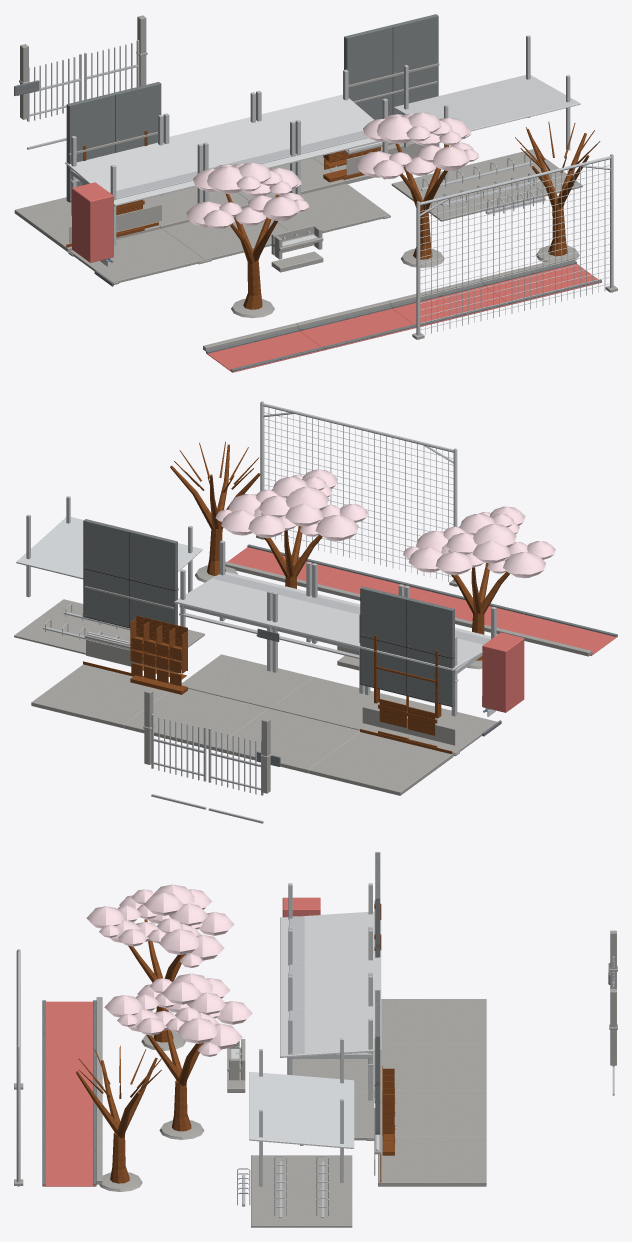
File: japanese-school-grounds-light.glb
The picture shows the model from 3 angles, top to bottom: view 1: azimuth 30°, elevation 25°; view 2: azimuth 150°, elevation 25°; view 3: azimuth 270°, elevation 25°; orthographic projection. The views are drawn at different scales.
Visible parts, largest first — view 1: 080-backstop-net-frame0, 039-classroom-wall-window0, 038-classroom-wall-sliding-door0, 073-cherry-tree-blossom1, 074-cherry-tree-blossom1, 066-bicycle-shelter2, 066-bicycle-shelter1, 062-covered-walkway-section2, 064-covered-walkway-section2, 063-covered-walkway-section2, 062-covered-walkway-section1, 065-vending-machine0 (+32 smaller); view 2: 038-classroom-wall-sliding-door0, 039-classroom-wall-window0, 080-backstop-net-frame0, 074-cherry-tree-blossom1, 073-cherry-tree-blossom1, 023-floor-slab-3m0, 029-floor-slab-3m0, 027-floor-slab-3m0, 025-floor-slab-3m0, 064-covered-walkway-section1, 063-covered-walkway-section1, 064-covered-walkway-section2 (+27 smaller); view 3: 066-bicycle-shelter2, 074-cherry-tree-blossom1, 073-cherry-tree-blossom1, 066-bicycle-shelter1, 029-floor-slab-3m0, 023-floor-slab-3m0, 025-floor-slab-3m0, 027-floor-slab-3m0, 064-covered-walkway-section2, 063-covered-walkway-section2, 062-covered-walkway-section2, 075-cherry-tree-bare0 (+21 smaller).
Part boxes in pixels (x1,y1,x2,y2): 080-backstop-net-frame0: (416, 154, 613, 339); 039-classroom-wall-window0: (344, 14, 438, 119); 038-classroom-wall-sliding-door0: (66, 82, 161, 202); 073-cherry-tree-blossom1: (186, 162, 309, 229); 074-cherry-tree-blossom1: (356, 112, 478, 179); 066-bicycle-shelter2: (394, 75, 580, 131); 066-bicycle-shelter1: (391, 149, 582, 221); 062-covered-walkway-section2: (65, 142, 197, 206); 064-covered-walkway-section2: (256, 94, 378, 161); 063-covered-walkway-section2: (164, 117, 301, 170); 062-covered-walkway-section1: (68, 228, 205, 284); 065-vending-machine0: (72, 182, 113, 262); 038-classroom-wall-sliding-door0: (360, 586, 454, 706); 039-classroom-wall-window0: (83, 519, 177, 628); 080-backstop-net-frame0: (260, 401, 457, 586); 074-cherry-tree-blossom1: (215, 469, 368, 541); 073-cherry-tree-blossom1: (403, 506, 555, 578); 023-floor-slab-3m0: (308, 732, 453, 795); 029-floor-slab-3m0: (31, 664, 168, 728); 027-floor-slab-3m0: (123, 688, 268, 750); 025-floor-slab-3m0: (217, 708, 359, 773); 064-covered-walkway-section1: (181, 654, 312, 708); 063-covered-walkway-section1: (271, 677, 405, 730); 064-covered-walkway-section2: (174, 571, 306, 625); 066-bicycle-shelter2: (249, 1071, 354, 1148); 074-cherry-tree-blossom1: (104, 973, 252, 1056); 073-cherry-tree-blossom1: (86, 884, 234, 967); 066-bicycle-shelter1: (251, 1155, 352, 1227); 029-floor-slab-3m0: (378, 1137, 486, 1186); 023-floor-slab-3m0: (381, 999, 486, 1044); 025-floor-slab-3m0: (380, 1045, 486, 1090); 027-floor-slab-3m0: (380, 1091, 486, 1136); 064-covered-walkway-section2: (280, 1003, 381, 1057); 063-covered-walkway-section2: (280, 957, 381, 1009); 062-covered-walkway-section2: (280, 911, 381, 963); 075-cherry-tree-bare0: (75, 1045, 161, 1183).
Size of the model in its own units: 15.49 by 4.58 by 16.65.
10 materials, 3 textured.
